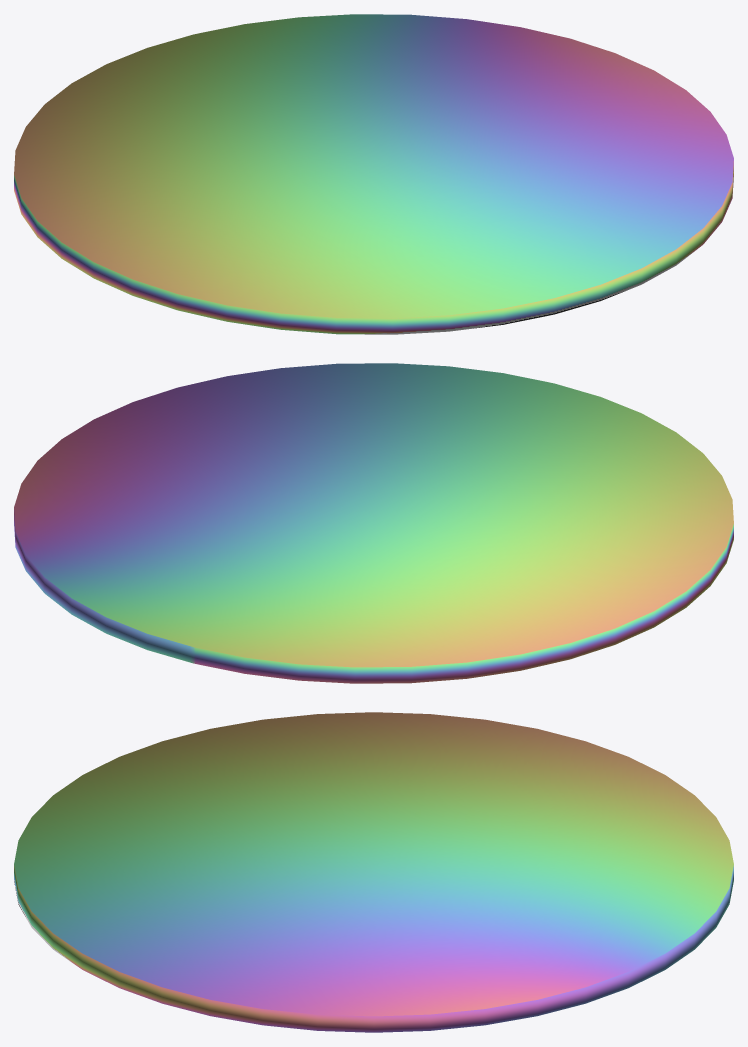
Rendered from Trash_CD.fbx.
The picture shows the model from 3 angles, top to bottom: view 1: azimuth 30°, elevation 25°; view 2: azimuth 150°, elevation 25°; view 3: azimuth 270°, elevation 25°; orthographic projection.
Parts seen in each view (by area): view 1: Trash_CD; view 2: Trash_CD; view 3: Trash_CD.
Part boxes in pixels (<box>): Trash_CD: <box>14,14,733,334</box>; Trash_CD: <box>14,363,733,683</box>; Trash_CD: <box>14,712,733,1032</box>.
Bounding box in the file's own units: 0.12 × 0.003 × 0.12.
Materials: 1 (1 with a texture image).
